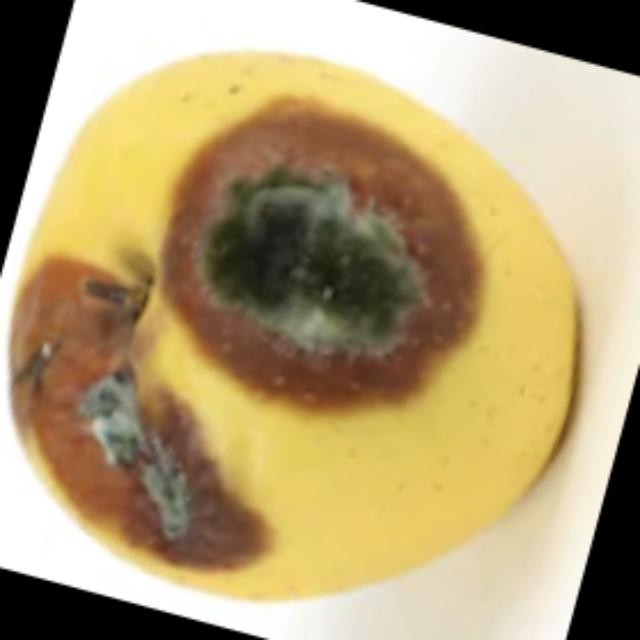Apel Tidak Segar: (0, 54, 589, 623)
